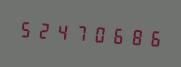eight: (125, 22, 142, 50)
five: (17, 14, 34, 43)
four: (53, 17, 70, 45)
seven: (71, 18, 88, 46)
six: (107, 21, 124, 49), (143, 23, 160, 51)
two: (35, 16, 52, 44)
zero: (89, 19, 106, 48)
